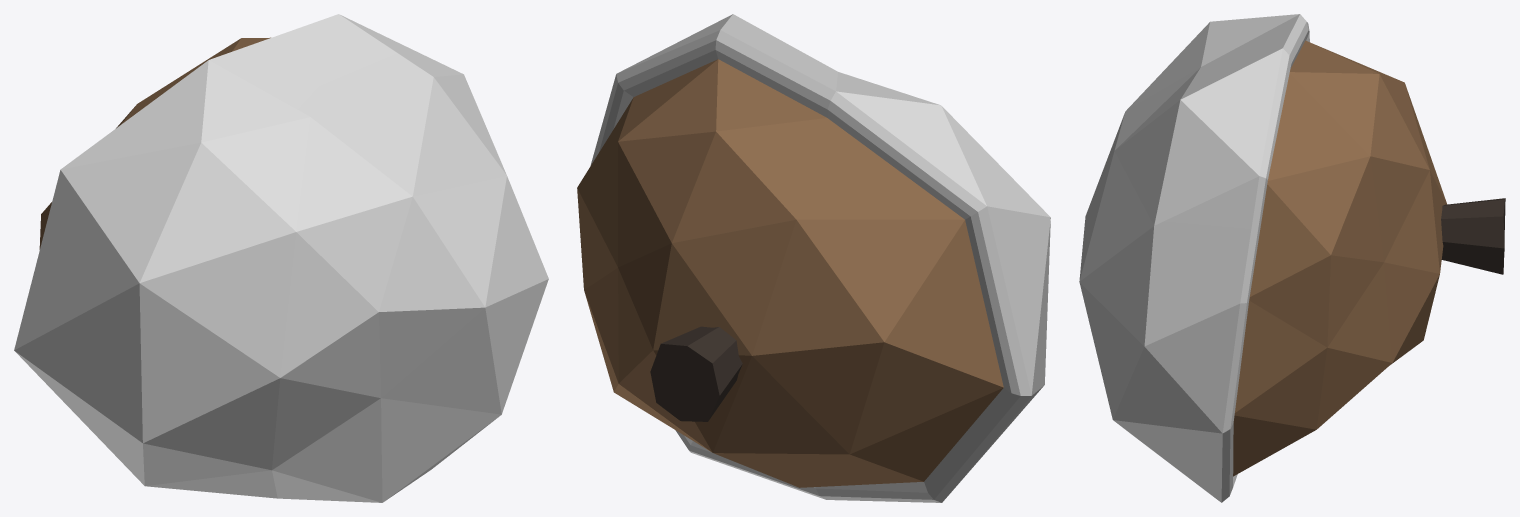
Rendered from bush3.fbx.
The picture shows the model from 3 angles, left to right: view 1: azimuth 30°, elevation 25°; view 2: azimuth 150°, elevation 25°; view 3: azimuth 270°, elevation 25°; orthographic projection. The views are drawn at different scales.
Parts seen in each view (by area): view 1: Laub-1.001; view 2: Laub-1.001; view 3: Laub-1.001.
Boxes of the visible parts, x1,y1,x2,y2 form: Laub-1.001: (14,14,548,502); Laub-1.001: (577,14,1050,502); Laub-1.001: (1079,14,1505,502).
Bounding box in the file's own units: 499 × 458 × 412.
